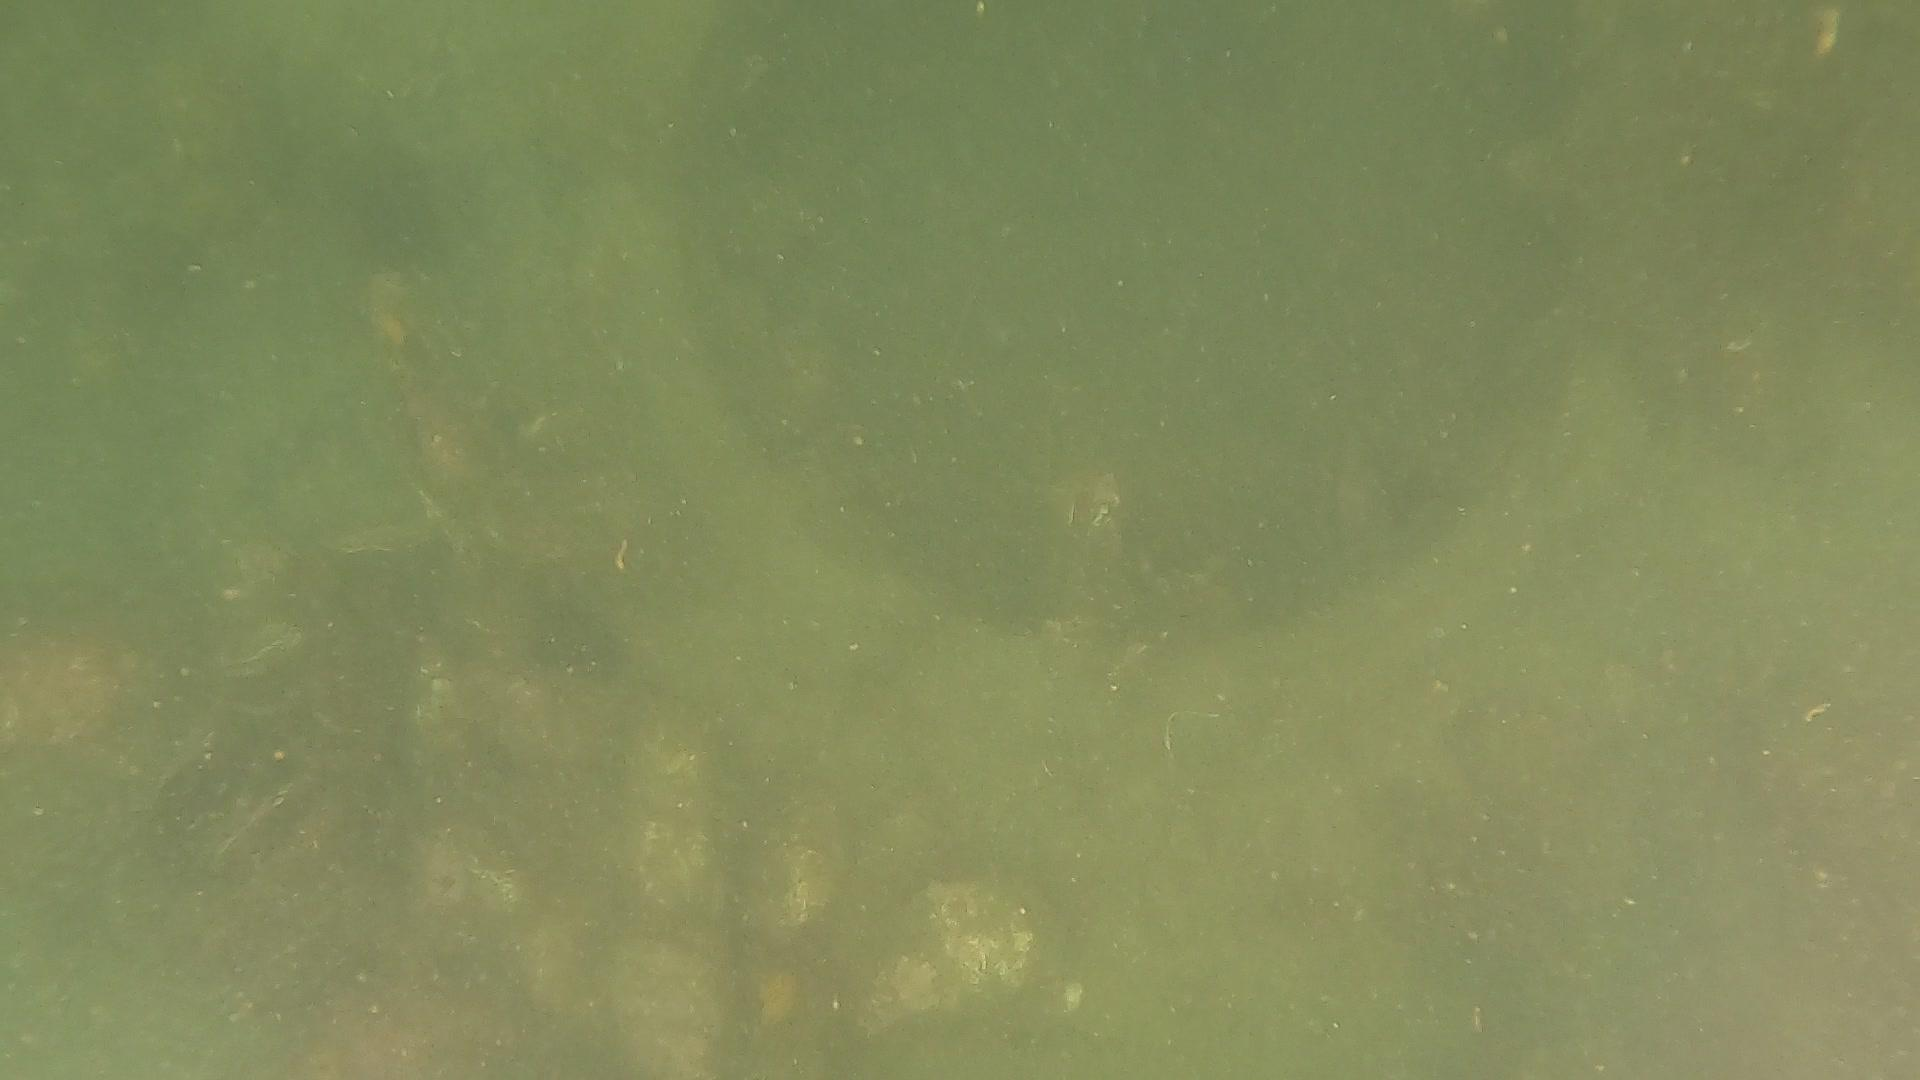tire: (187, 0, 1920, 1080)
